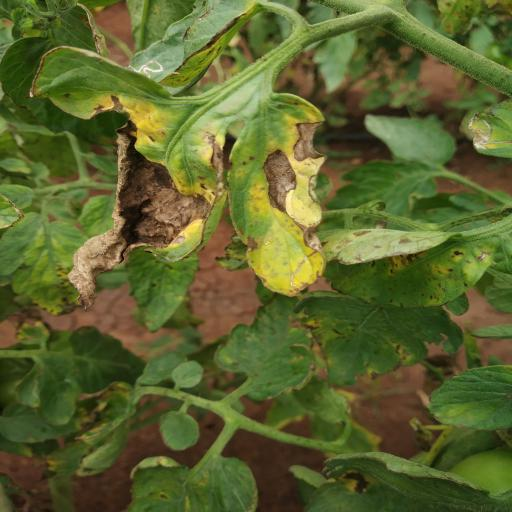Early Blight: (31, 46, 223, 314), (225, 94, 331, 298), (322, 228, 498, 310)
